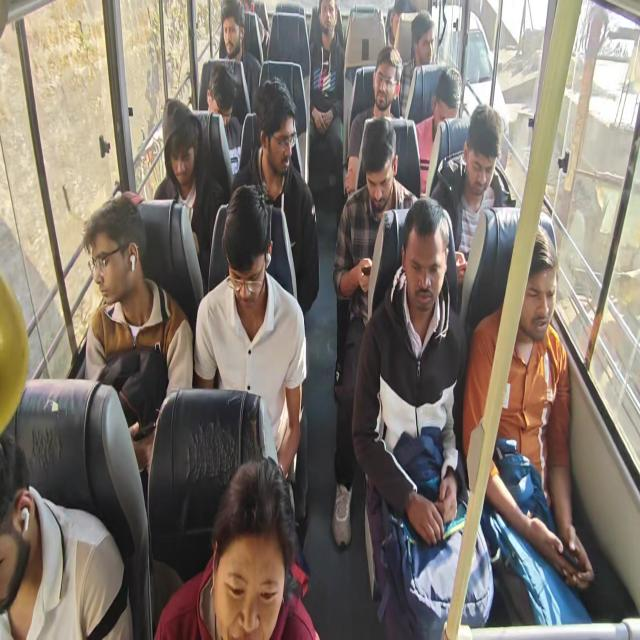person: (351, 196, 494, 638), (462, 225, 594, 625), (230, 77, 320, 520), (331, 116, 420, 548), (193, 182, 307, 506), (82, 195, 194, 504), (153, 457, 320, 639), (0, 432, 133, 639), (429, 103, 503, 309), (154, 99, 225, 293), (344, 45, 404, 197), (308, 0, 345, 191), (217, 0, 262, 125), (414, 66, 462, 165), (395, 10, 435, 118), (206, 64, 242, 176), (238, 0, 270, 58), (384, 0, 417, 49)
